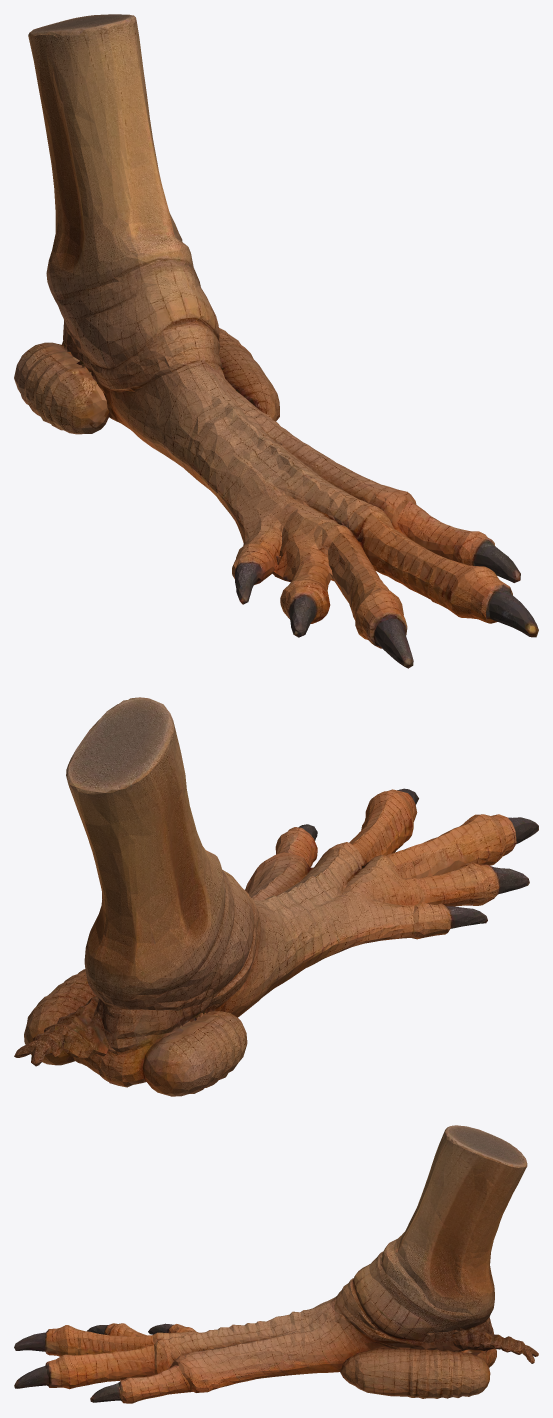
File: foot (89).glb
3 views of the same model, one above another, from view 1: azimuth 30°, elevation 25°; view 2: azimuth 150°, elevation 25°; view 3: azimuth 270°, elevation 25° (orthographic). The views are drawn at different scales.
Visible parts, largest first — view 1: Hy21_Mesh.obj; view 2: Hy21_Mesh.obj; view 3: Hy21_Mesh.obj.
Boxes of the visible parts, bbox=[...] form: Hy21_Mesh.obj: bbox=[14, 14, 538, 668]; Hy21_Mesh.obj: bbox=[14, 697, 538, 1096]; Hy21_Mesh.obj: bbox=[14, 1125, 538, 1403].
Size of the model in its own units: 0.631 by 0.9925 by 1.96.
Materials: 1 (1 with a texture image).
